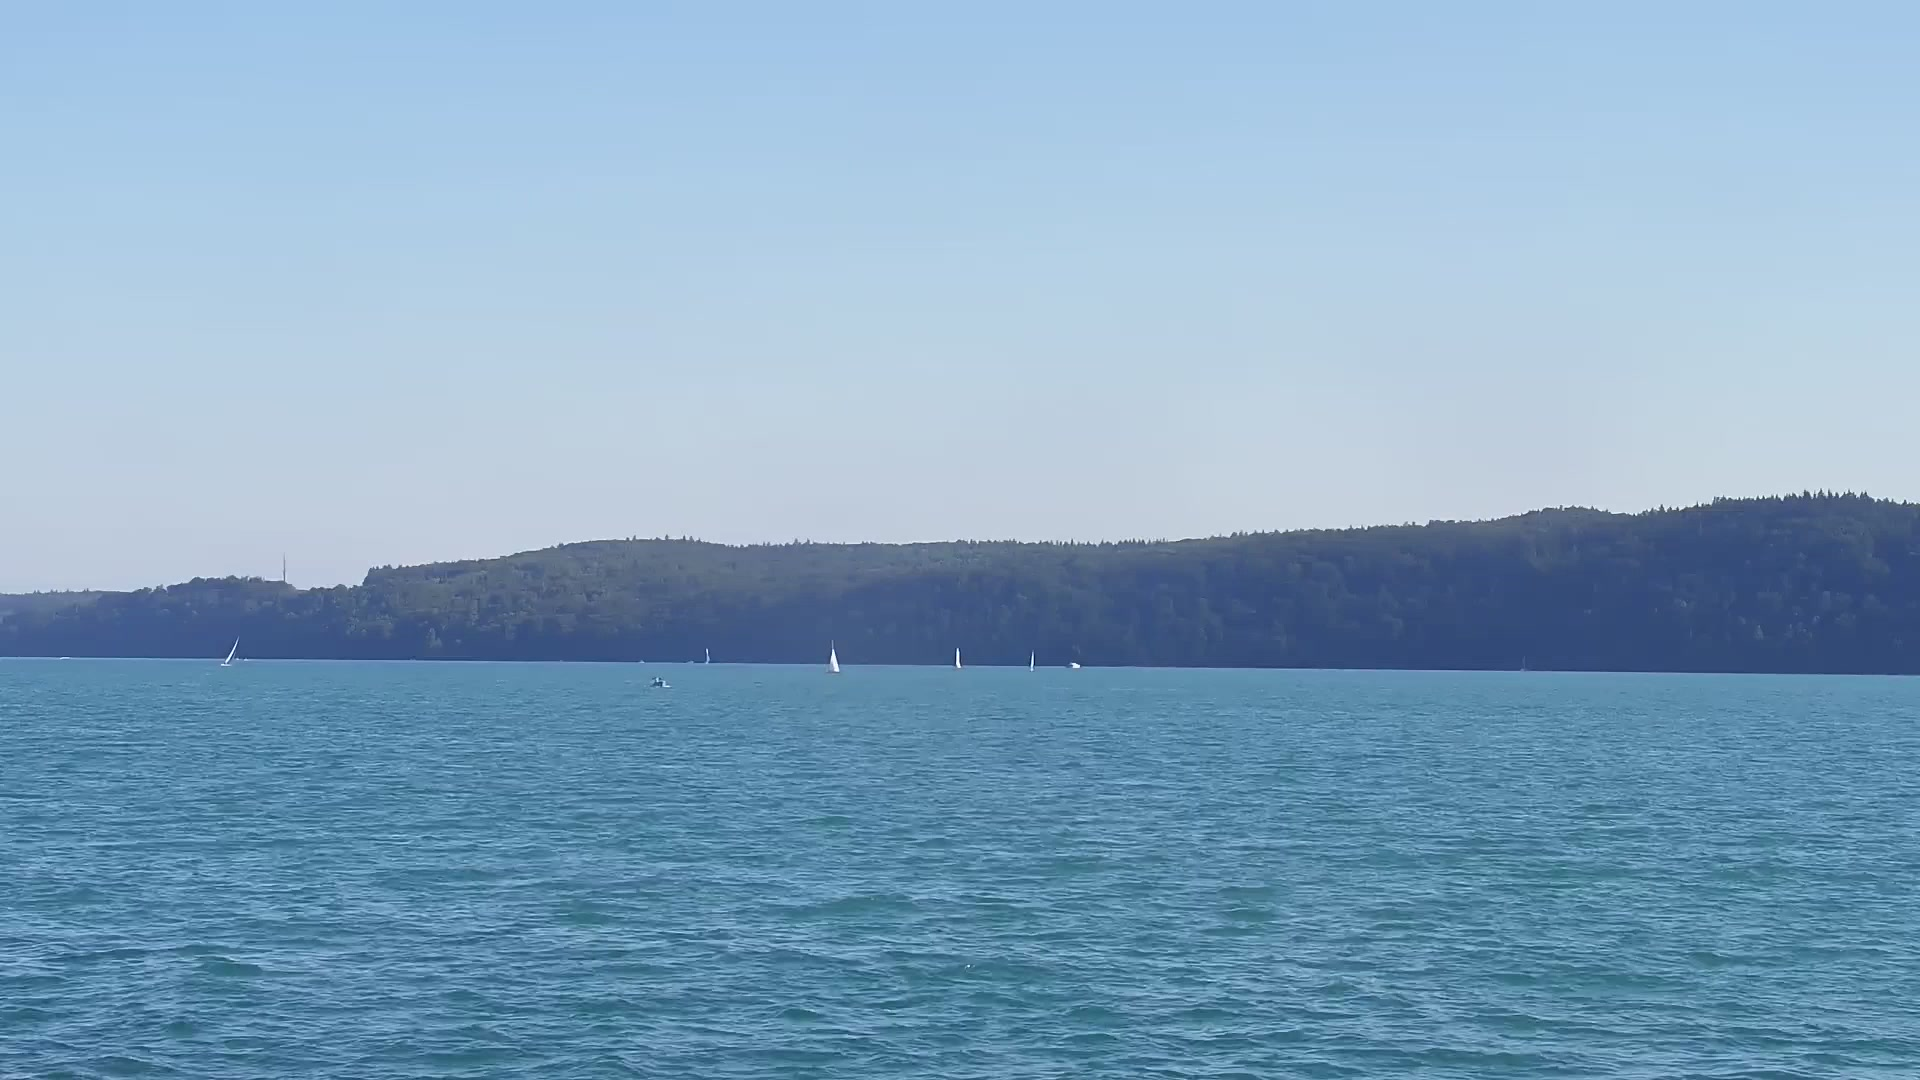sea: (219, 636, 240, 667), (824, 638, 840, 673), (1027, 649, 1035, 673), (953, 645, 960, 669), (703, 647, 711, 665), (1067, 662, 1081, 670)
